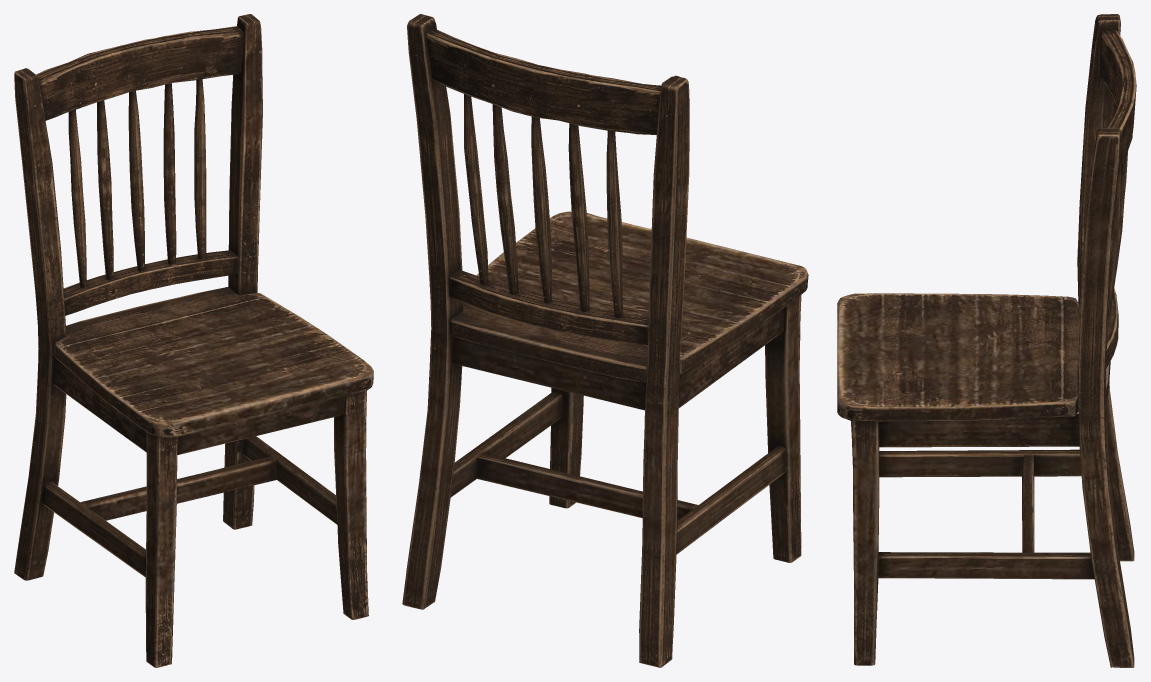
File: pub_chair.glb
3 renders of one model, left to right at view 1: azimuth 30°, elevation 25°; view 2: azimuth 150°, elevation 25°; view 3: azimuth 270°, elevation 25°, orthographic. The views are drawn at different scales.
Bounding box in the file's own units: 0.4421 × 0.9 × 0.457.
1 material, 1 textured.
